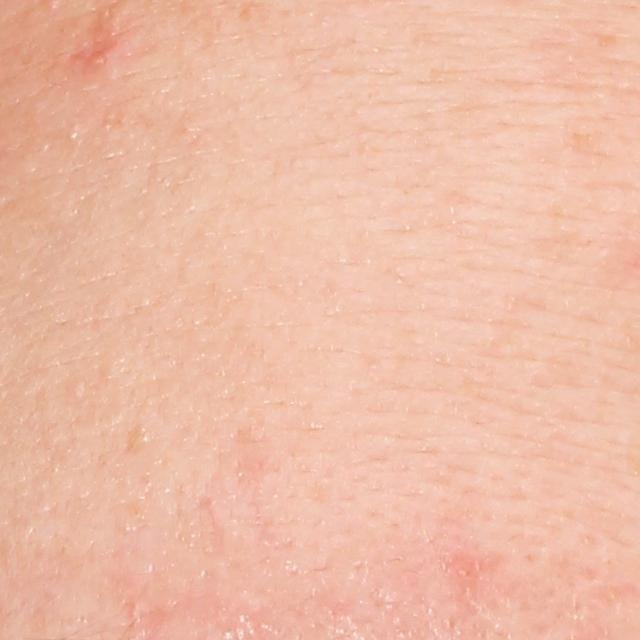papule: (85, 49, 109, 71)
